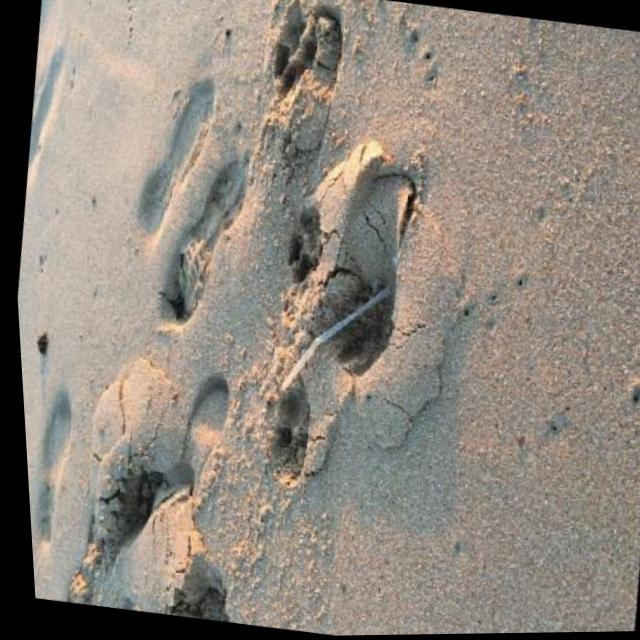plastic: (274, 272, 402, 406)
